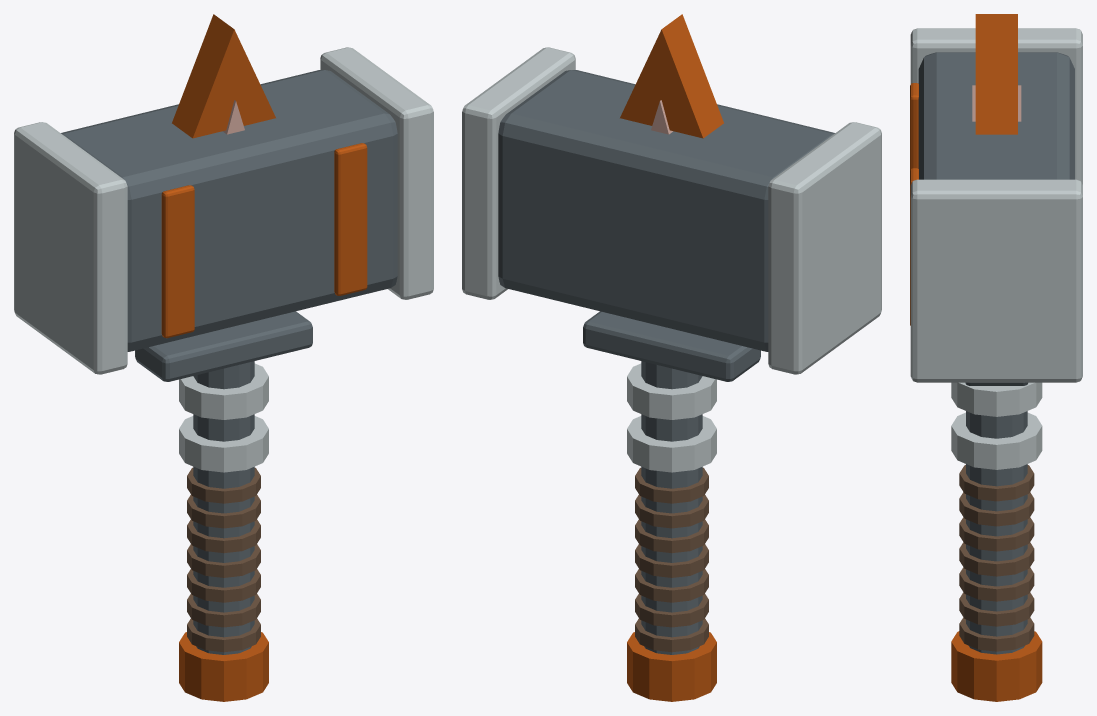
File: WarHammer.fbx
3 views of the same model, side by side, from view 1: azimuth 30°, elevation 25°; view 2: azimuth 150°, elevation 25°; view 3: azimuth 270°, elevation 25° (orthographic).
Visible parts, largest first — view 1: Tete, Face, Face.001, Manche.004, Silhouette.004, Garde.004, Renfort, Renfort.001, Pommeau.004, Collier.008, Collier.009, Bande_06.004 (+6 smaller); view 2: Tete, Face, Face.001, Manche.004, Silhouette.004, Garde.004, Pommeau.004, Collier.008, Collier.009, Bande_06.004, Bande_00.004, Bande_03.004 (+4 smaller); view 3: Face.001, Tete, Manche.004, Silhouette.004, Face, Pommeau.004, Collier.008, Collier.009, Bande_06.004, Bande_00.004, Bande_04.004, Bande_01.004 (+5 smaller).
Part boxes in pixels (box(x1,y1,x2,y2)): Tete: box(61, 70, 397, 351); Face: box(14, 122, 127, 374); Face.001: box(320, 47, 433, 299); Manche.004: box(193, 361, 254, 654); Silhouette.004: box(172, 14, 275, 138); Garde.004: box(135, 311, 312, 381); Renfort: box(161, 185, 194, 338); Renfort.001: box(334, 143, 367, 295); Pommeau.004: box(179, 632, 268, 701); Collier.008: box(179, 416, 268, 472); Collier.009: box(179, 363, 268, 419); Bande_06.004: box(187, 467, 260, 503); Tete: box(498, 70, 834, 351); Face: box(768, 122, 881, 374); Face.001: box(462, 47, 575, 299); Manche.004: box(641, 361, 702, 654); Silhouette.004: box(620, 14, 723, 138); Garde.004: box(583, 311, 760, 381); Pommeau.004: box(627, 632, 716, 701); Collier.008: box(627, 416, 716, 472); Collier.009: box(627, 363, 716, 419); Bande_06.004: box(635, 467, 708, 503); Bande_00.004: box(635, 618, 708, 652); Bande_03.004: box(635, 544, 708, 577); Face.001: box(910, 179, 1082, 382); Tete: box(918, 52, 1074, 179); Manche.004: box(966, 411, 1027, 654); Silhouette.004: box(975, 14, 1017, 134); Face: box(910, 28, 1082, 184); Pommeau.004: box(951, 631, 1042, 701); Collier.008: box(951, 412, 1042, 469); Collier.009: box(951, 382, 1042, 416); Bande_06.004: box(959, 465, 1034, 501); Bande_00.004: box(959, 617, 1034, 651); Bande_04.004: box(959, 517, 1034, 551); Bande_01.004: box(959, 592, 1034, 626).
Bounding box in the file's own units: 122 × 227 × 53.2.
